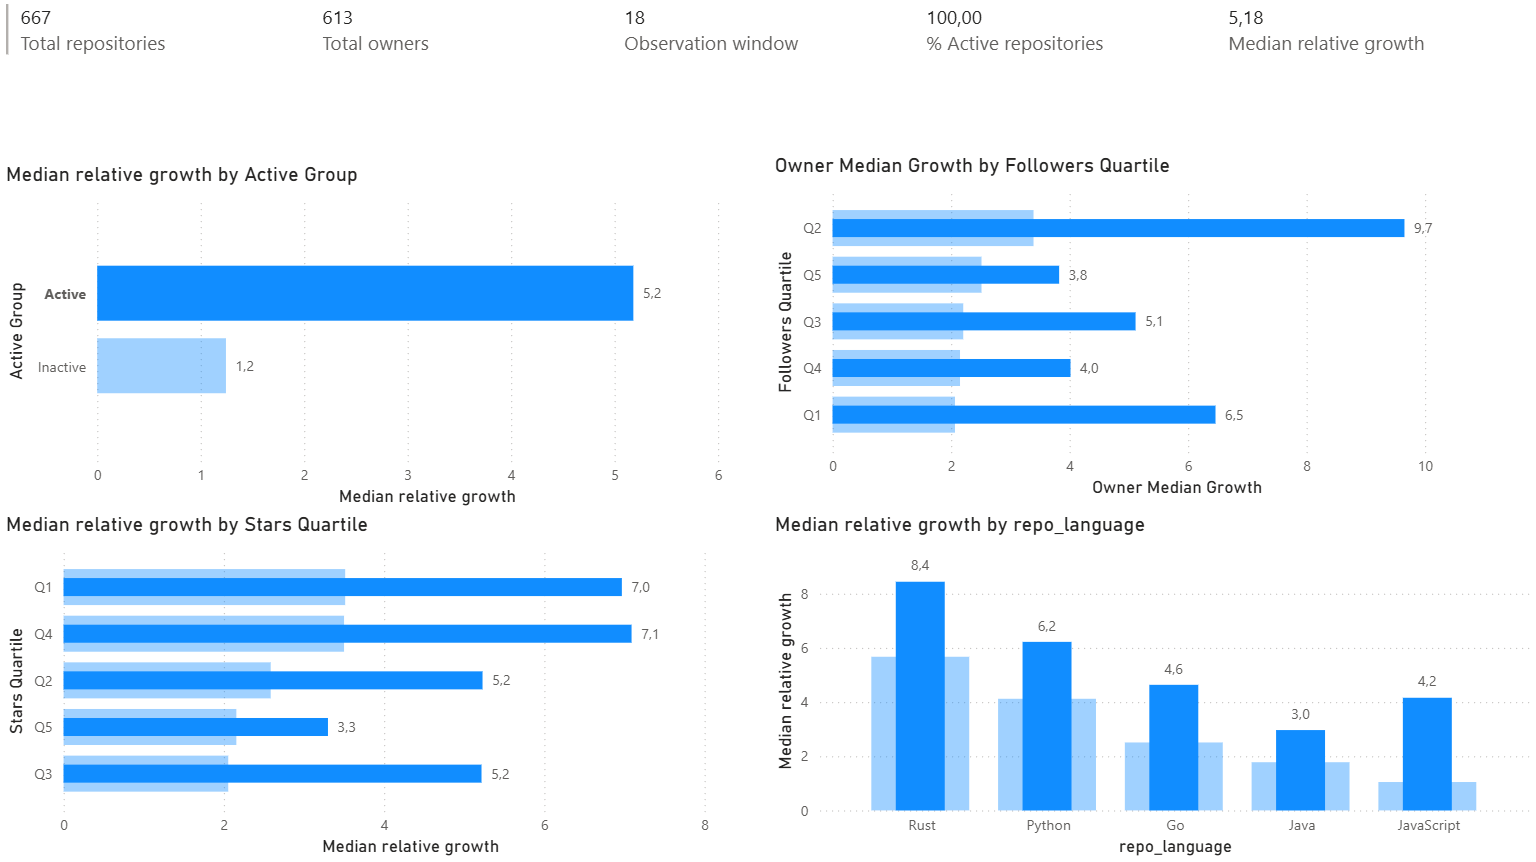

Layout of this report page (visuals, bound fields, positions):
{"tool":"powerbi","page":{"name":"Страница 1","canvas":[1280,720],"ordinal":0},"visuals":[{"type":"multiRowCard","fields":{"Values":["public repositories.Total repositories","public repositories.Total owners","public repositories_snapshots.Observation window","public repositories.% Active repositories","public repositories.Median relative growth"]},"box":[0,0,1280.2,67.7],"z":0},{"type":"barChart","title":"Median relative growth by Active Group","fields":{"Category":["public repositories.Active Group"],"Y":["public repositories.Median relative growth"]},"box":[0,136.5,640.6,291.7],"z":1000},{"type":"barChart","title":"Owner Median Growth by Followers Quartile","fields":{"Category":["public repositories.Followers Quartile"],"Y":["public repositories.Owner Median Growth"]},"box":[640.6,129.2,639.6,291.7],"z":2000},{"type":"barChart","title":"Median relative growth by Stars Quartile","fields":{"Category":["public repositories.Stars Quartile"],"Y":["public repositories.Median relative growth"]},"box":[0,428.1,640.6,291.7],"z":3000},{"type":"clusteredColumnChart","title":"Median relative growth by repo_language","fields":{"Category":["public repositories.repo_language"],"Y":["public repositories.Median relative growth"]},"box":[640.6,428.1,639.6,291.7],"z":4000}]}

Visuals, with their boxes in screenshot pixels (x1, y1, x2, y2), scaled from the page's 1280x720 canvas onto the 1536x862 screenshot:
multiRowCard - public repositories.Total repositories x public repositories.Total owners: region(0, 0, 1535, 81)
"Median relative growth by Active Group" barChart: region(0, 163, 769, 513)
"Owner Median Growth by Followers Quartile" barChart: region(769, 155, 1535, 504)
"Median relative growth by Stars Quartile" barChart: region(0, 513, 769, 861)
"Median relative growth by repo_language" clusteredColumnChart: region(769, 513, 1535, 861)
